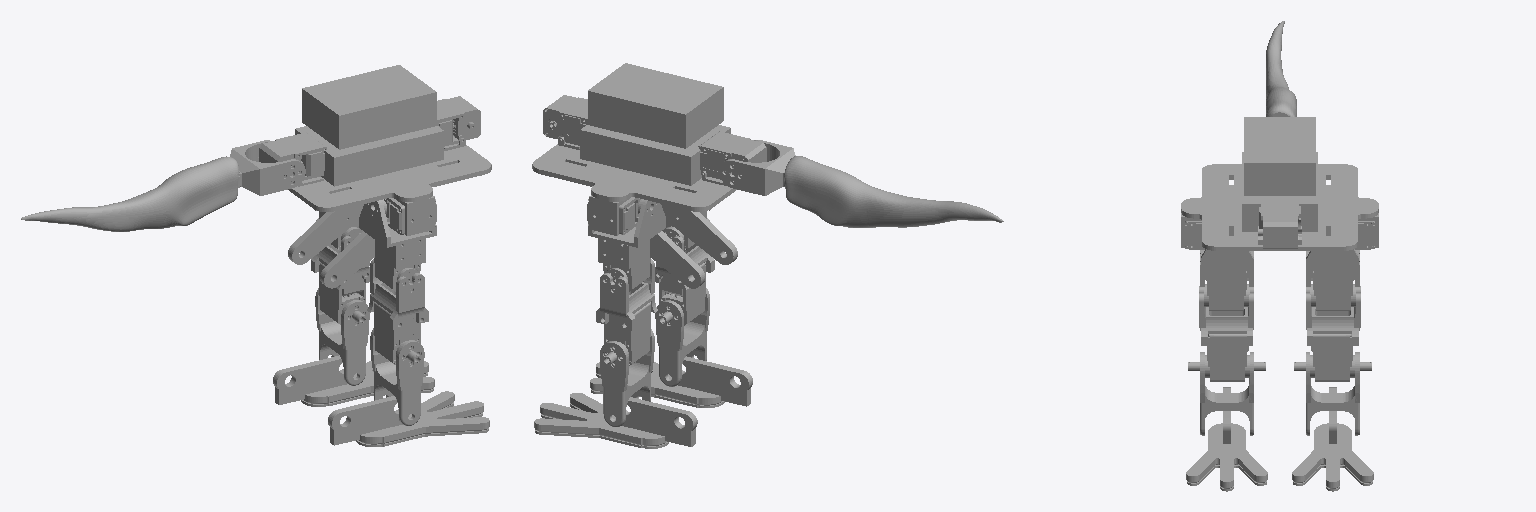
The robot description file, URDF, robot "Trex":
<?xml version="1.0" ?>
<!-- Trex v2, written by redesign/make_trex_v2.py from redesign/trex_v2_design.yaml. Do not edit by hand. -->
<robot name="Trex">

<material name="silver">
  <color rgba="0.700 0.700 0.700 1.000"/>
</material>

<link name="base_link">
  <inertial>
    <origin xyz="-0.009799 0.000034 0.240054" rpy="0 0 0"/>
    <mass value="0.848746"/>
    <inertia ixx="1.080359798e-03" iyy="1.537262569e-03" izz="1.871160247e-03" ixy="-2.070593144e-07" iyz="-2.180451786e-08" ixz="3.140222488e-06"/>
  </inertial>
  <visual>
    <origin xyz="-0.000000 -0.000000 -0.000000" rpy="0 0 0"/>
    <geometry>
      <mesh filename="meshes/base_link.stl" scale="0.001 0.001 0.001"/>
    </geometry>
    <material name="silver"/>
  </visual>
  <collision>
    <origin xyz="-0.000000 -0.000000 -0.000000" rpy="0 0 0"/>
    <geometry>
      <mesh filename="meshes/base_link.stl" scale="0.001 0.001 0.001"/>
    </geometry>
  </collision>
</link>

<link name="head">
  <inertial>
    <origin xyz="0.091806 -0.019391 0.012882" rpy="0 0 0"/>
    <mass value="0.078000"/>
    <inertia ixx="3.533617353e-05" iyy="1.511014329e-04" izz="1.386837870e-04" ixy="-2.126226217e-07" iyz="2.697819299e-07" ixz="-2.858139277e-05"/>
  </inertial>
  <visual>
    <origin xyz="-0.075102 -0.018229 -0.241619" rpy="0 0 0"/>
    <geometry>
      <mesh filename="meshes/head.stl" scale="0.001 0.001 0.001"/>
    </geometry>
    <material name="silver"/>
  </visual>
  <collision>
    <origin xyz="-0.075102 -0.018229 -0.241619" rpy="0 0 0"/>
    <geometry>
      <mesh filename="meshes/head.stl" scale="0.001 0.001 0.001"/>
    </geometry>
  </collision>
</link>

<link name="tail">
  <inertial>
    <origin xyz="-0.086621 -0.019899 -0.005955" rpy="0 0 0"/>
    <mass value="0.038000"/>
    <inertia ixx="6.747121980e-06" iyy="8.874321184e-05" izz="8.796491723e-05" ixy="-2.850351763e-06" iyz="-4.456554880e-08" ixz="-3.559220908e-06"/>
  </inertial>
  <visual>
    <origin xyz="0.093508 -0.019726 -0.239673" rpy="0 0 0"/>
    <geometry>
      <mesh filename="meshes/tail.stl" scale="0.001 0.001 0.001"/>
    </geometry>
    <material name="silver"/>
  </visual>
  <collision>
    <origin xyz="0.093508 -0.019726 -0.239673" rpy="0 0 0"/>
    <geometry>
      <mesh filename="meshes/tail.stl" scale="0.001 0.001 0.001"/>
    </geometry>
  </collision>
</link>

<link name="left_femur">
  <inertial>
    <origin xyz="-0.002518 -0.001354 -0.041213" rpy="0 0 0"/>
    <mass value="0.078794"/>
    <inertia ixx="3.692975260e-05" iyy="4.233829065e-05" izz="2.536334955e-05" ixy="-3.572142770e-06" iyz="-1.066207240e-06" ixz="-3.070769928e-06"/>
  </inertial>
  <visual>
    <origin xyz="0.009500 -0.044000 -0.205380" rpy="0 0 0"/>
    <geometry>
      <mesh filename="meshes/left_femur.stl" scale="0.001 0.001 0.001"/>
    </geometry>
    <material name="silver"/>
  </visual>
  <collision>
    <origin xyz="0.009500 -0.044000 -0.205380" rpy="0 0 0"/>
    <geometry>
      <mesh filename="meshes/left_femur.stl" scale="0.001 0.001 0.001"/>
    </geometry>
  </collision>
</link>

<link name="left_tibia">
  <inertial>
    <origin xyz="-0.003031 -0.000163 -0.042913" rpy="0 0 0"/>
    <mass value="0.071834"/>
    <inertia ixx="3.753363770e-05" iyy="4.240757058e-05" izz="2.302916925e-05" ixy="1.925991268e-07" iyz="1.058800474e-07" ixz="2.240402311e-06"/>
  </inertial>
  <visual>
    <origin xyz="0.009500 -0.044000 -0.143380" rpy="0 0 0"/>
    <geometry>
      <mesh filename="meshes/left_tibia.stl" scale="0.001 0.001 0.001"/>
    </geometry>
    <material name="silver"/>
  </visual>
  <collision>
    <origin xyz="0.009500 -0.044000 -0.143380" rpy="0 0 0"/>
    <geometry>
      <mesh filename="meshes/left_tibia.stl" scale="0.001 0.001 0.001"/>
    </geometry>
  </collision>
</link>

<link name="left_ankle">
  <inertial>
    <origin xyz="-0.014119 0.000328 -0.020291" rpy="0 0 0"/>
    <mass value="0.029494"/>
    <inertia ixx="2.080744598e-05" iyy="2.568167220e-05" izz="2.369556953e-05" ixy="6.353855049e-08" iyz="-1.305271780e-07" ixz="-1.231772115e-07"/>
  </inertial>
  <visual>
    <origin xyz="0.009500 -0.044000 -0.078380" rpy="0 0 0"/>
    <geometry>
      <mesh filename="meshes/left_ankle.stl" scale="0.001 0.001 0.001"/>
    </geometry>
    <material name="silver"/>
  </visual>
  <collision>
    <origin xyz="0.009500 -0.044000 -0.078380" rpy="0 0 0"/>
    <geometry>
      <mesh filename="meshes/left_ankle.stl" scale="0.001 0.001 0.001"/>
    </geometry>
  </collision>
</link>

<link name="left_foot">
  <inertial>
    <origin xyz="0.009790 0.000000 -0.016659" rpy="0 0 0"/>
    <mass value="0.032708"/>
    <inertia ixx="6.723557444e-06" iyy="4.064567141e-05" izz="4.349180548e-05" ixy="-2.401384918e-10" iyz="1.226634188e-11" ixz="4.102371953e-06"/>
  </inertial>
  <visual>
    <origin xyz="0.009500 -0.044000 -0.024380" rpy="0 0 0"/>
    <geometry>
      <mesh filename="meshes/left_foot.stl" scale="0.001 0.001 0.001"/>
    </geometry>
    <material name="silver"/>
  </visual>
  <collision>
    <origin xyz="0.009500 -0.044000 -0.024380" rpy="0 0 0"/>
    <geometry>
      <mesh filename="meshes/left_foot.stl" scale="0.001 0.001 0.001"/>
    </geometry>
  </collision>
</link>

<link name="right_femur">
  <inertial>
    <origin xyz="-0.002518 0.001354 -0.041213" rpy="0 0 0"/>
    <mass value="0.078794"/>
    <inertia ixx="3.692975260e-05" iyy="4.233829065e-05" izz="2.536334955e-05" ixy="3.572142770e-06" iyz="1.066207240e-06" ixz="-3.070769928e-06"/>
  </inertial>
  <visual>
    <origin xyz="0.009500 0.044000 -0.205380" rpy="0 0 0"/>
    <geometry>
      <mesh filename="meshes/right_femur.stl" scale="0.001 0.001 0.001"/>
    </geometry>
    <material name="silver"/>
  </visual>
  <collision>
    <origin xyz="0.009500 0.044000 -0.205380" rpy="0 0 0"/>
    <geometry>
      <mesh filename="meshes/right_femur.stl" scale="0.001 0.001 0.001"/>
    </geometry>
  </collision>
</link>

<link name="right_tibia">
  <inertial>
    <origin xyz="-0.003031 0.000163 -0.042913" rpy="0 0 0"/>
    <mass value="0.071834"/>
    <inertia ixx="3.753363770e-05" iyy="4.240757058e-05" izz="2.302916925e-05" ixy="-1.925991268e-07" iyz="-1.058800474e-07" ixz="2.240402311e-06"/>
  </inertial>
  <visual>
    <origin xyz="0.009500 0.044000 -0.143380" rpy="0 0 0"/>
    <geometry>
      <mesh filename="meshes/right_tibia.stl" scale="0.001 0.001 0.001"/>
    </geometry>
    <material name="silver"/>
  </visual>
  <collision>
    <origin xyz="0.009500 0.044000 -0.143380" rpy="0 0 0"/>
    <geometry>
      <mesh filename="meshes/right_tibia.stl" scale="0.001 0.001 0.001"/>
    </geometry>
  </collision>
</link>

<link name="right_ankle">
  <inertial>
    <origin xyz="-0.014119 -0.000328 -0.020291" rpy="0 0 0"/>
    <mass value="0.029494"/>
    <inertia ixx="2.080744598e-05" iyy="2.568167220e-05" izz="2.369556953e-05" ixy="-6.353855049e-08" iyz="1.305271780e-07" ixz="-1.231772115e-07"/>
  </inertial>
  <visual>
    <origin xyz="0.009500 0.044000 -0.078380" rpy="0 0 0"/>
    <geometry>
      <mesh filename="meshes/right_ankle.stl" scale="0.001 0.001 0.001"/>
    </geometry>
    <material name="silver"/>
  </visual>
  <collision>
    <origin xyz="0.009500 0.044000 -0.078380" rpy="0 0 0"/>
    <geometry>
      <mesh filename="meshes/right_ankle.stl" scale="0.001 0.001 0.001"/>
    </geometry>
  </collision>
</link>

<link name="right_foot">
  <inertial>
    <origin xyz="0.009790 -0.000000 -0.016659" rpy="0 0 0"/>
    <mass value="0.032708"/>
    <inertia ixx="6.723557444e-06" iyy="4.064567141e-05" izz="4.349180548e-05" ixy="2.401384918e-10" iyz="-1.226634188e-11" ixz="4.102371953e-06"/>
  </inertial>
  <visual>
    <origin xyz="0.009500 0.044000 -0.024380" rpy="0 0 0"/>
    <geometry>
      <mesh filename="meshes/right_foot.stl" scale="0.001 0.001 0.001"/>
    </geometry>
    <material name="silver"/>
  </visual>
  <collision>
    <origin xyz="0.009500 0.044000 -0.024380" rpy="0 0 0"/>
    <geometry>
      <mesh filename="meshes/right_foot.stl" scale="0.001 0.001 0.001"/>
    </geometry>
  </collision>
</link>

<joint name="head_joint" type="continuous">
  <origin xyz="0.075102 0.018229 0.241619" rpy="0 0 0"/>
  <parent link="base_link"/>
  <child link="head"/>
  <axis xyz="0.0 1.0 0.0"/>
</joint>

<joint name="tail_joint" type="continuous">
  <origin xyz="-0.093508 0.019726 0.239673" rpy="0 0 0"/>
  <parent link="base_link"/>
  <child link="tail"/>
  <axis xyz="0.0 1.0 0.0"/>
</joint>

<joint name="left_hip_joint" type="continuous">
  <origin xyz="-0.009500 0.044000 0.205380" rpy="0 0 0"/>
  <parent link="base_link"/>
  <child link="left_femur"/>
  <axis xyz="-1.0 0.0 0.0"/>
</joint>

<joint name="left_femur_joint" type="continuous">
  <origin xyz="0.000000 0.000000 -0.062000" rpy="0 0 0"/>
  <parent link="left_femur"/>
  <child link="left_tibia"/>
  <axis xyz="0.0 -1.0 0.0"/>
</joint>

<joint name="left_tibia_joint" type="continuous">
  <origin xyz="0.000000 0.000000 -0.065000" rpy="0 0 0"/>
  <parent link="left_tibia"/>
  <child link="left_ankle"/>
  <axis xyz="0.0 1.0 0.0"/>
</joint>

<joint name="left_ankle_joint" type="continuous">
  <origin xyz="0.000000 0.000000 -0.054000" rpy="0 0 0"/>
  <parent link="left_ankle"/>
  <child link="left_foot"/>
  <axis xyz="0.0 1.0 0.0"/>
</joint>

<joint name="right_hip_joint" type="continuous">
  <origin xyz="-0.009500 -0.044000 0.205380" rpy="0 0 0"/>
  <parent link="base_link"/>
  <child link="right_femur"/>
  <axis xyz="1.0 0.0 0.0"/>
</joint>

<joint name="right_femur_joint" type="continuous">
  <origin xyz="0.000000 0.000000 -0.062000" rpy="0 0 0"/>
  <parent link="right_femur"/>
  <child link="right_tibia"/>
  <axis xyz="0.0 -1.0 0.0"/>
</joint>

<joint name="right_tibia_joint" type="continuous">
  <origin xyz="0.000000 0.000000 -0.065000" rpy="0 0 0"/>
  <parent link="right_tibia"/>
  <child link="right_ankle"/>
  <axis xyz="0.0 1.0 0.0"/>
</joint>

<joint name="right_ankle_joint" type="continuous">
  <origin xyz="0.000000 0.000000 -0.054000" rpy="0 0 0"/>
  <parent link="right_ankle"/>
  <child link="right_foot"/>
  <axis xyz="0.0 1.0 0.0"/>
</joint>

</robot>

--- Facts derived from the render (not from the file) ---
The picture shows the robot from 3 angles, left to right: view 1: azimuth 30°, elevation 25°; view 2: azimuth 150°, elevation 25°; view 3: azimuth 270°, elevation 25°; orthographic projection.
Robot: Trex — 11 links, 10 joints (10 continuous); root link base_link; default pose: every joint at zero.
Links seen in each view (by area): view 1: base_link, tail, right_foot, right_femur, right_tibia, left_foot, right_ankle, left_ankle, left_tibia, left_femur; view 2: base_link, tail, left_foot, left_femur, left_tibia, right_foot, left_ankle, right_ankle, right_tibia, right_femur; view 3: base_link, left_tibia, right_tibia, left_foot, right_foot, left_femur, right_femur, left_ankle, right_ankle, tail.
Boxes of the visible links, left/top/right/bottom form: base_link: left=259, top=65, right=491, bottom=235; tail: left=21, top=140, right=305, bottom=231; right_foot: left=328, top=391, right=489, bottom=446; right_femur: left=320, top=199, right=436, bottom=291; right_tibia: left=367, top=259, right=428, bottom=364; left_foot: left=273, top=355, right=434, bottom=406; right_ankle: left=370, top=328, right=424, bottom=425; left_ankle: left=315, top=288, right=369, bottom=385; left_tibia: left=311, top=218, right=369, bottom=324; left_femur: left=288, top=204, right=363, bottom=264; base_link: left=532, top=63, right=766, bottom=235; tail: left=719, top=140, right=1003, bottom=227; left_foot: left=534, top=393, right=697, bottom=448; left_femur: left=588, top=199, right=704, bottom=291; left_tibia: left=596, top=259, right=657, bottom=365; right_foot: left=590, top=356, right=752, bottom=407; left_ankle: left=600, top=329, right=654, bottom=426; right_ankle: left=655, top=288, right=709, bottom=386; right_tibia: left=655, top=218, right=714, bottom=325; right_femur: left=661, top=204, right=737, bottom=264; base_link: left=1181, top=117, right=1378, bottom=250; left_tibia: left=1306, top=284, right=1360, bottom=381; right_tibia: left=1199, top=284, right=1253, bottom=381; left_foot: left=1292, top=387, right=1373, bottom=491; right_foot: left=1186, top=387, right=1267, bottom=491; left_femur: left=1306, top=230, right=1359, bottom=310; right_femur: left=1200, top=230, right=1253, bottom=310; left_ankle: left=1294, top=352, right=1371, bottom=435; right_ankle: left=1188, top=352, right=1265, bottom=435; tail: left=1266, top=21, right=1296, bottom=116.
Size in the robot's own frame: 0.4153 by 0.164 by 0.2856 metres.
10 mesh visuals loaded from 11 distinct referenced files (10 binary STL); not drawn: 1 (reference not matched to a file when rendering).
